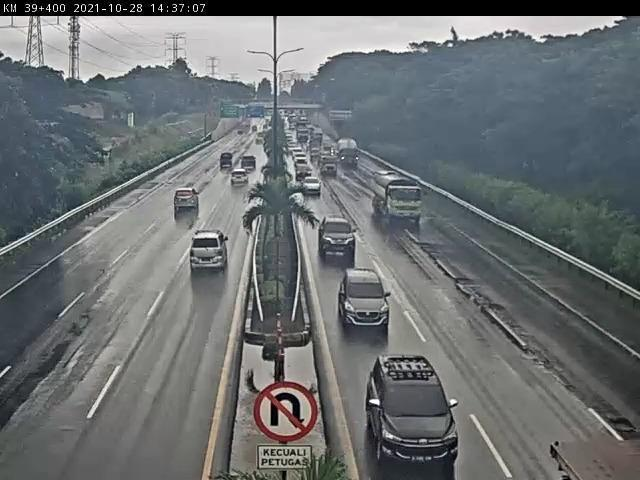car: (361, 353, 466, 474), (338, 271, 401, 337), (313, 213, 359, 267), (187, 230, 235, 281), (164, 182, 207, 220), (300, 176, 330, 199), (298, 162, 321, 186), (244, 152, 263, 174), (217, 152, 237, 172), (232, 169, 251, 190)
truck: (370, 166, 433, 229), (334, 139, 380, 172)
